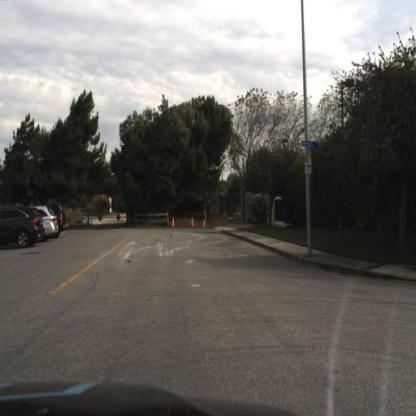car: (1, 204, 40, 252), (36, 202, 59, 244), (38, 201, 59, 241), (54, 207, 68, 238)
